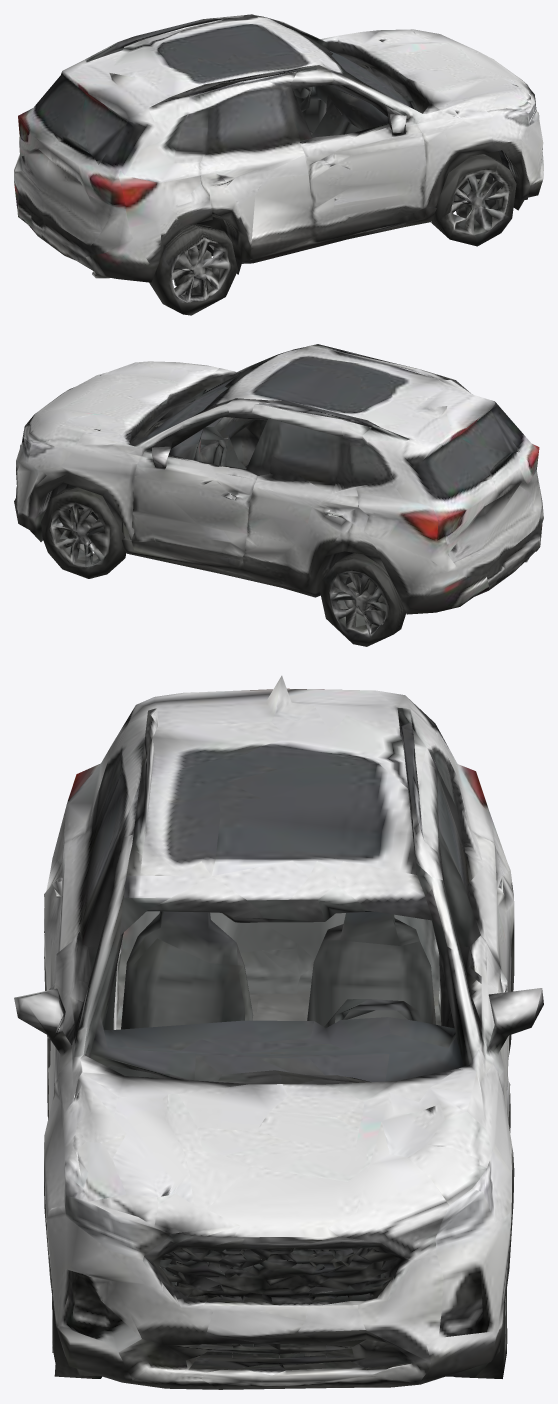
The model's file is carro-suv.glb.
3 views of the same model, one above another, from view 1: azimuth 30°, elevation 25°; view 2: azimuth 150°, elevation 25°; view 3: azimuth 270°, elevation 25° (orthographic). The views are drawn at different scales.
Visible parts, largest first — view 1: tripo_node_00b96a30-9a19-423a-98d0-0a1a9a26ea7e; view 2: tripo_node_00b96a30-9a19-423a-98d0-0a1a9a26ea7e; view 3: tripo_node_00b96a30-9a19-423a-98d0-0a1a9a26ea7e.
Part boxes in pixels (x1,y1,x2,y2): tripo_node_00b96a30-9a19-423a-98d0-0a1a9a26ea7e: (14, 14, 543, 315); tripo_node_00b96a30-9a19-423a-98d0-0a1a9a26ea7e: (14, 344, 543, 646); tripo_node_00b96a30-9a19-423a-98d0-0a1a9a26ea7e: (14, 675, 543, 1389).
Bounding box in the file's own units: 2.35 × 1 × 1.19.
1 material, 1 textured.
